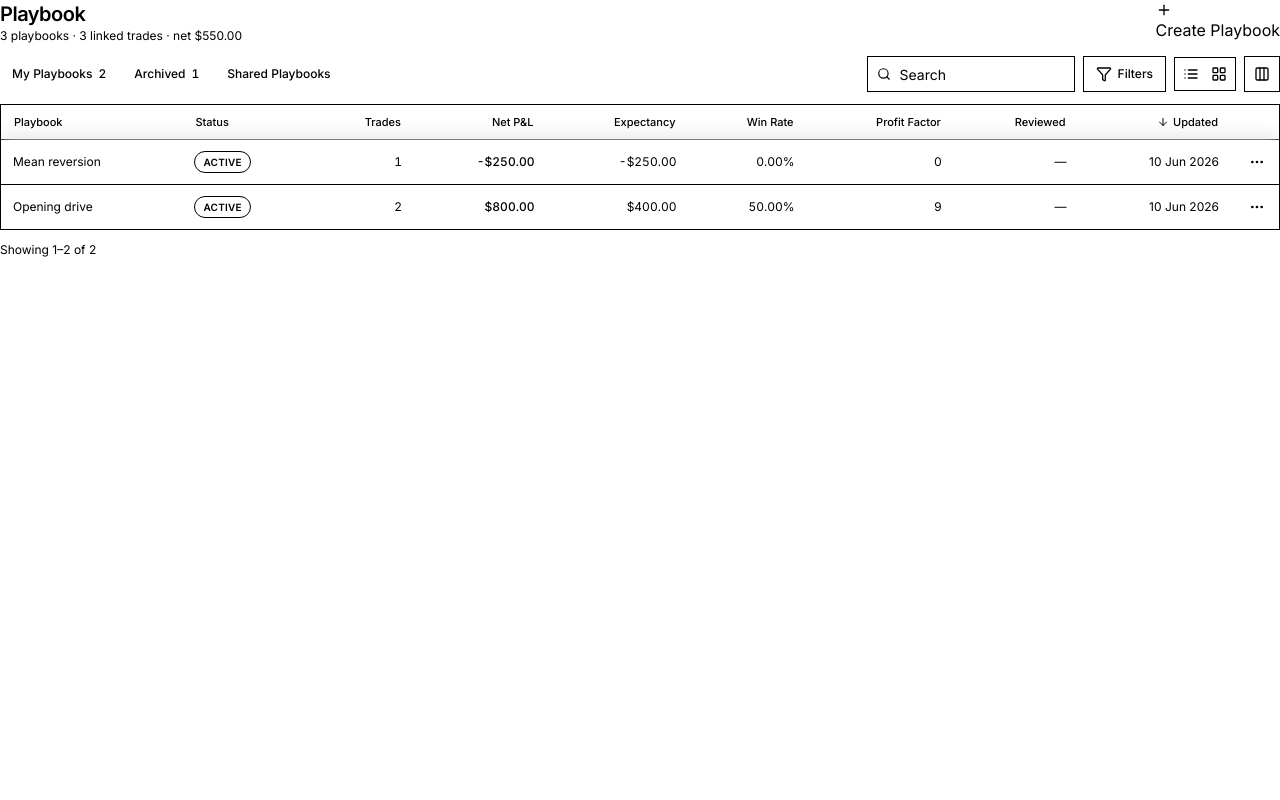
Scenario: search and filters › closes the filter panel on Escape without applying
Click the button "Filters": (1124, 74) [1083,56,1166,92]
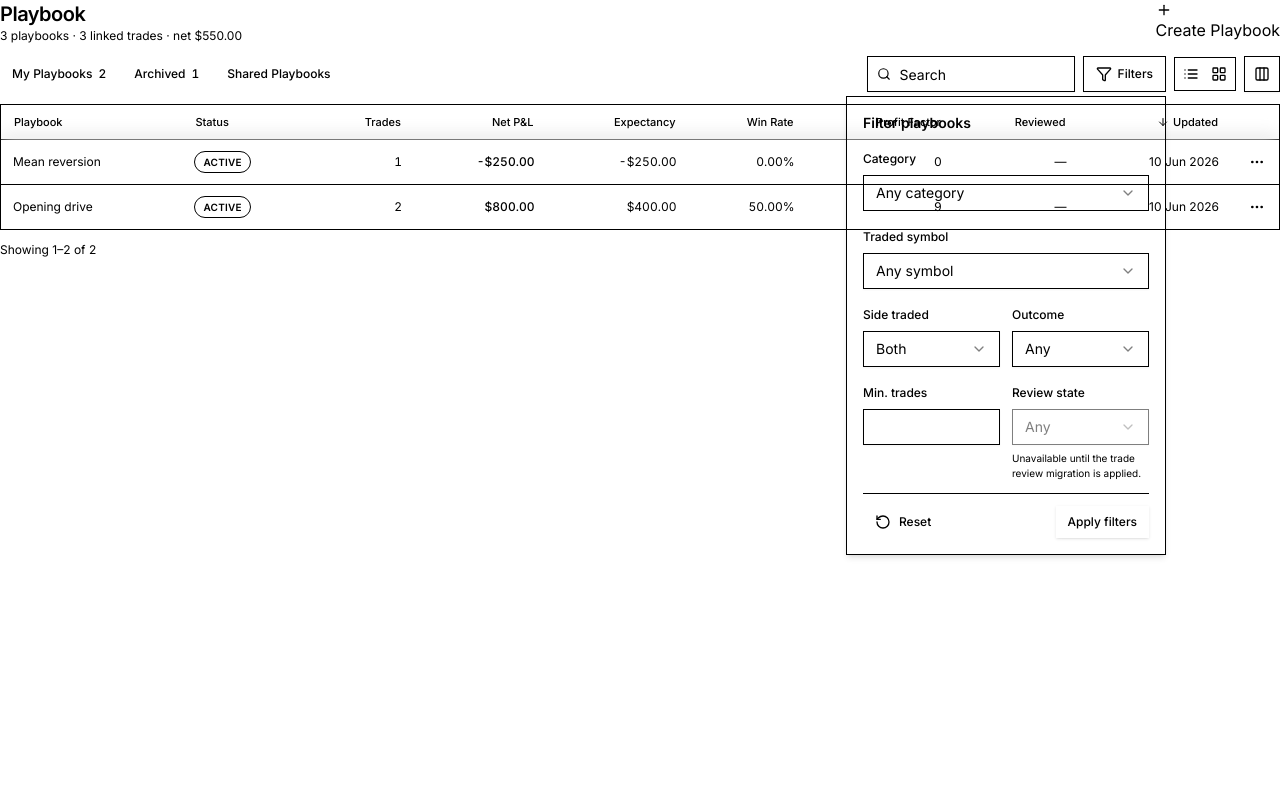
Now the button "Apply filters" is shown, box [1056,506,1149,538]
Press Escape
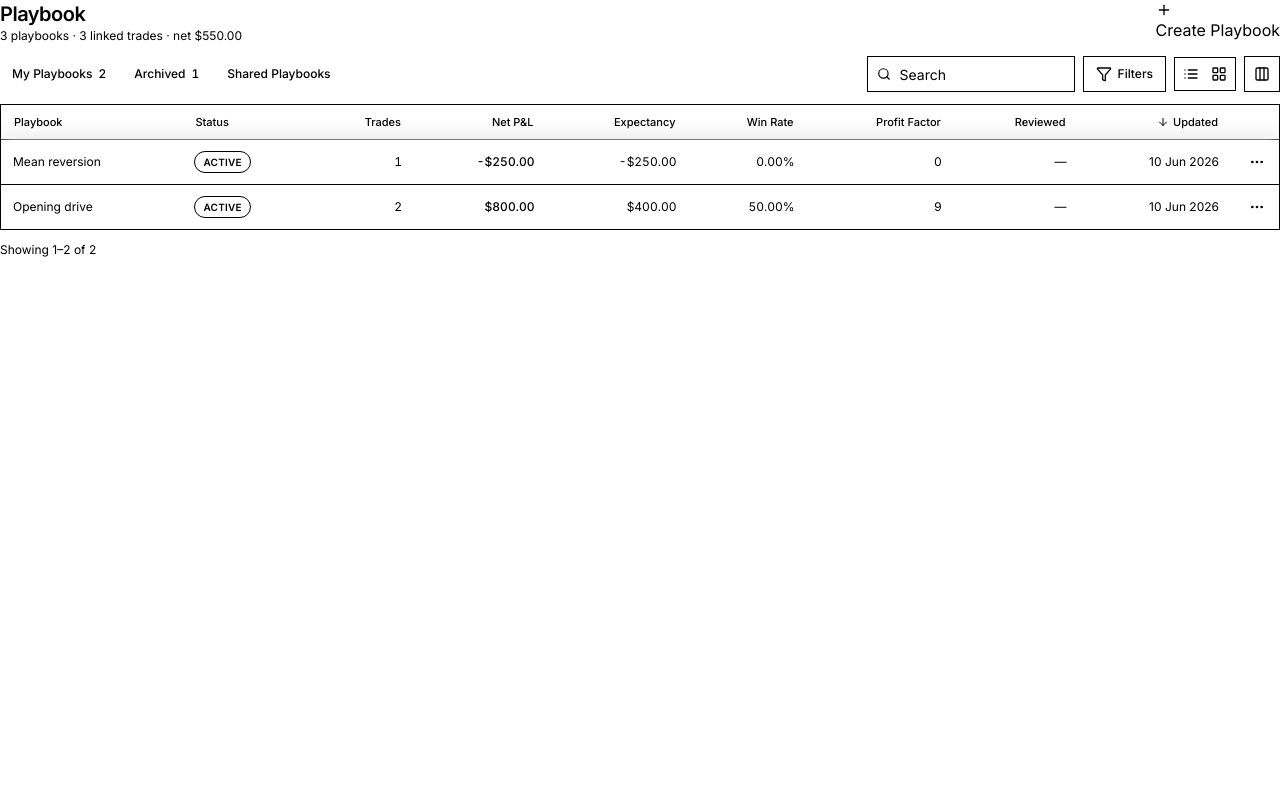
Now the button "Apply filters" is gone
